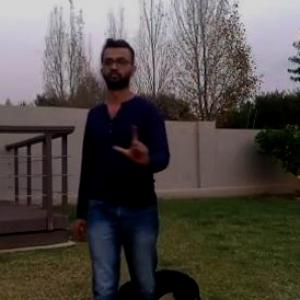land_hand: (112, 120, 153, 170)
